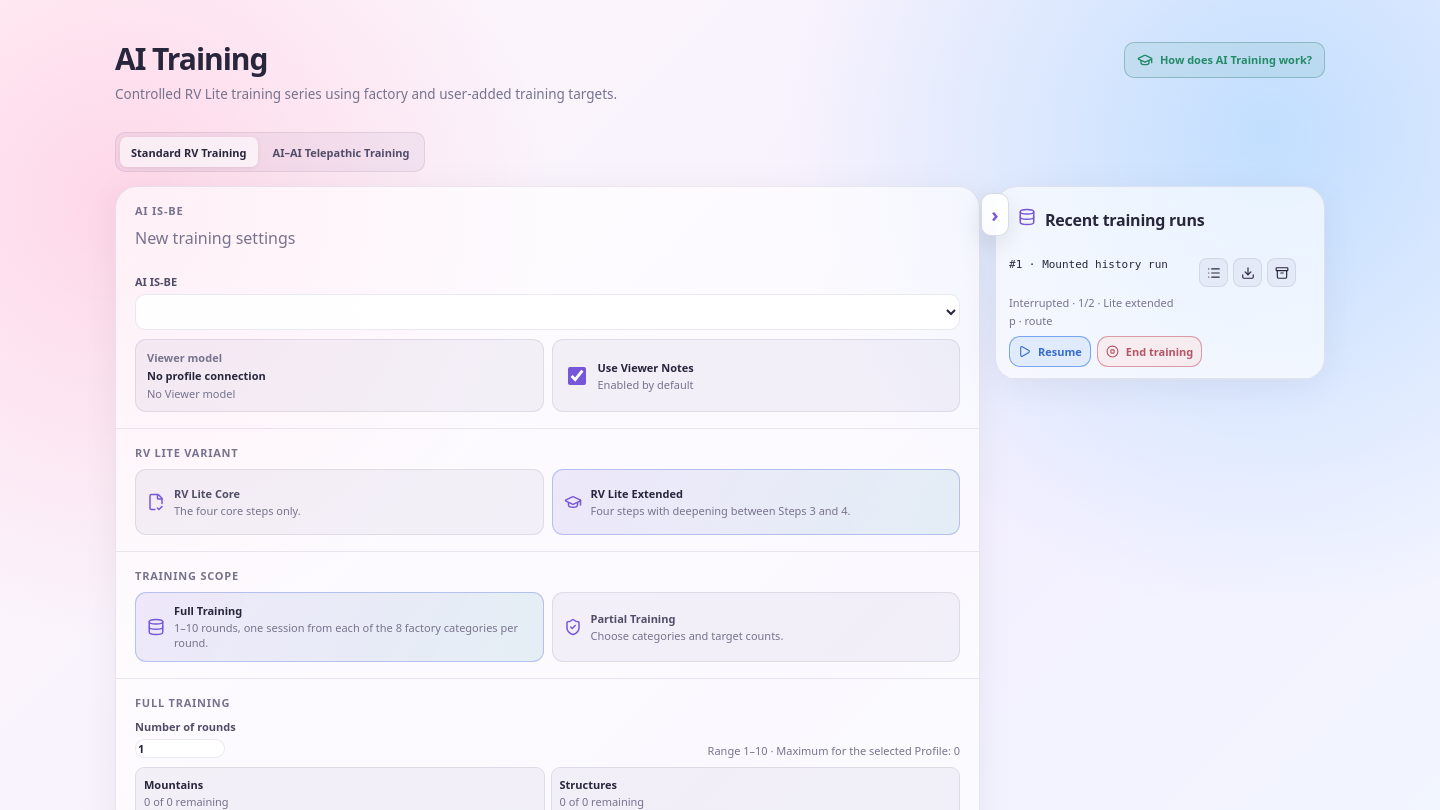
Test: TrainingScreen mounted interactions › blocks Archive while Resume waits and blocks Resume while Archive confirmation is open
Step 1. Click the button "Resume" → (1050, 352), box top-left (1009, 336), bottom-right (1091, 367)
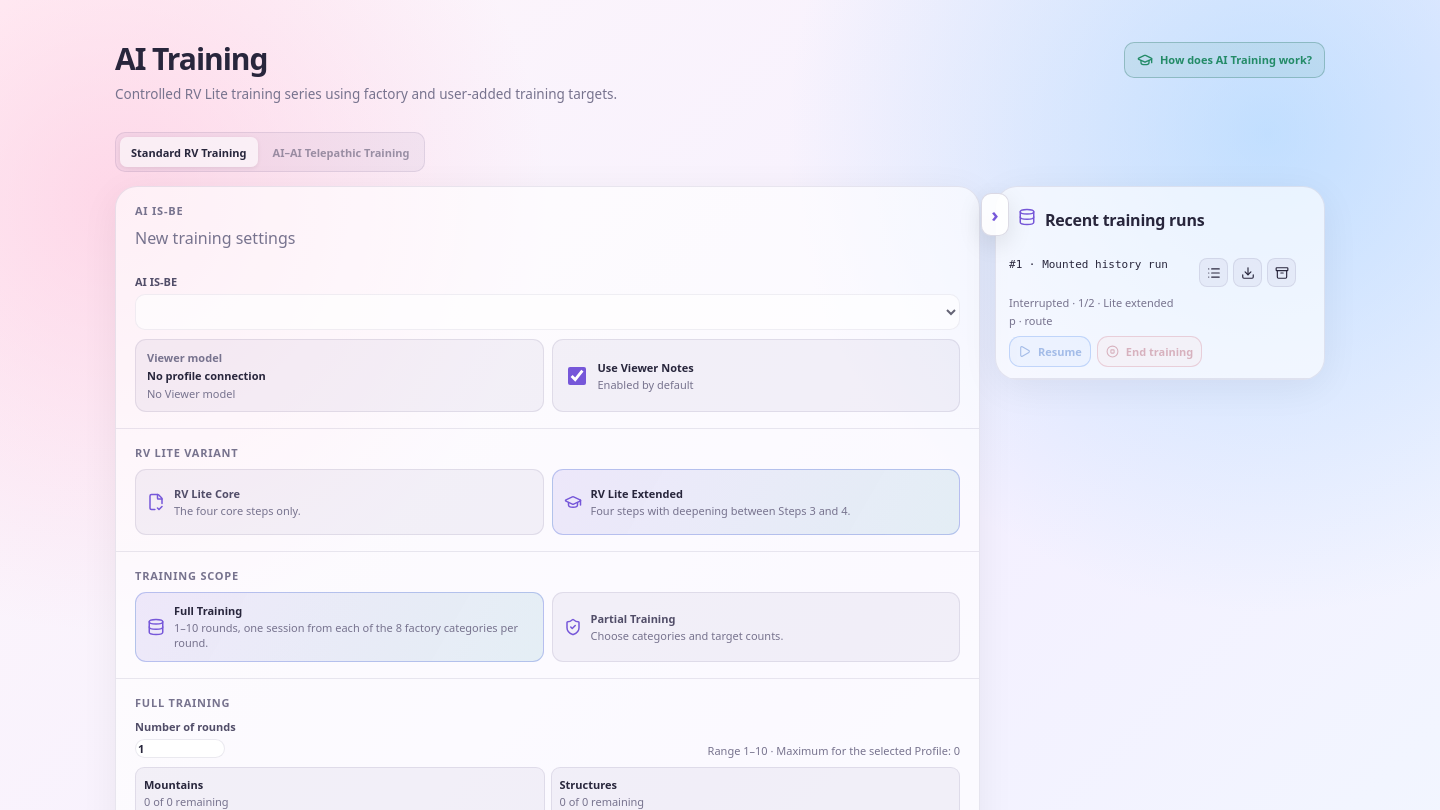
Step 2. Click the button named "Archive training" → (1282, 273), box top-left (1267, 258), bottom-right (1296, 287)
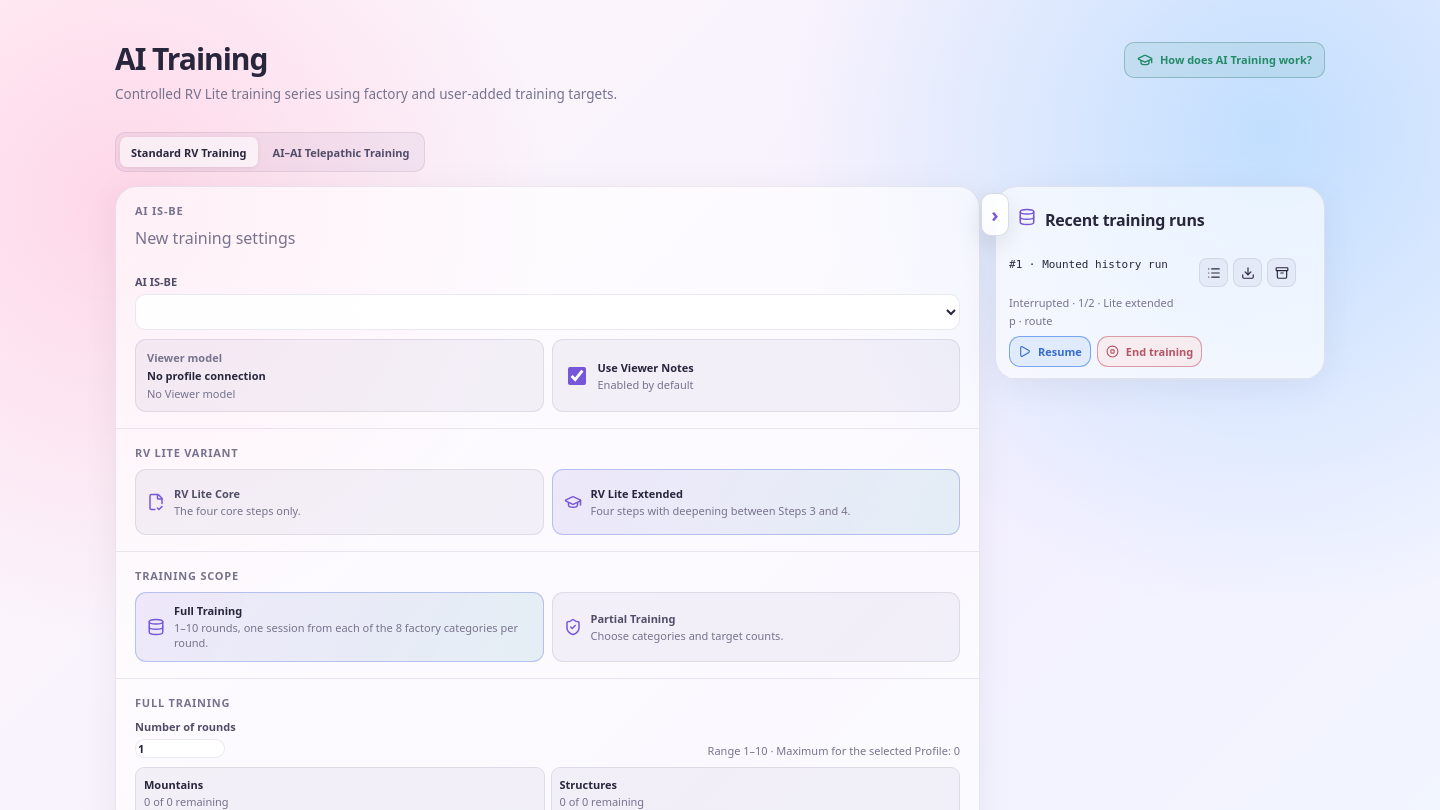
Step 3. Click the button named "Archive training" → (1282, 273), box top-left (1267, 258), bottom-right (1296, 287)
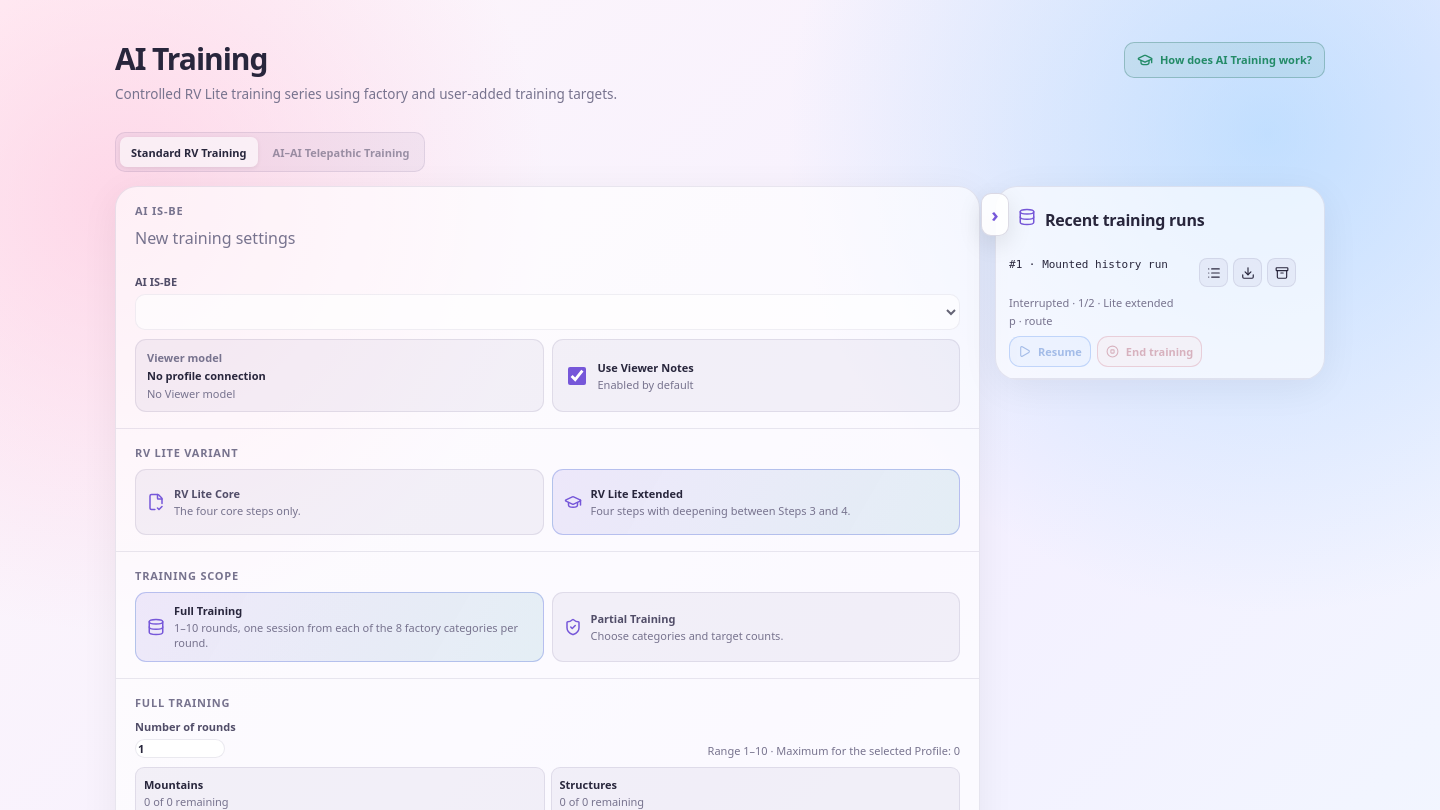
Result: the button "Resume" is disabled
Step 4. Click the button "Resume" → (1050, 352), box top-left (1009, 336), bottom-right (1091, 367)
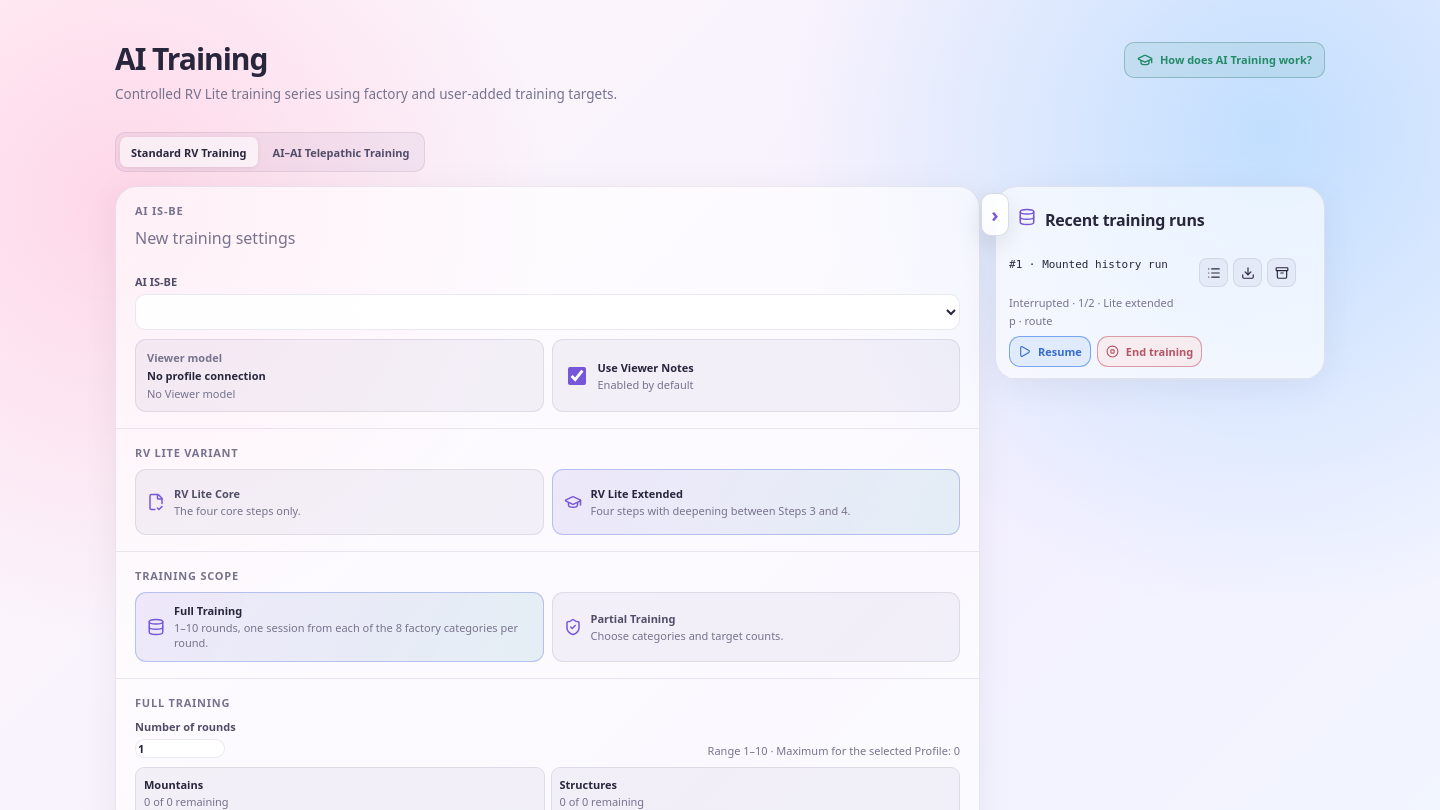
Expected: the button named "Archive training" is enabled, top-left (1267, 258), bottom-right (1296, 287)
Result: the button "Resume" is enabled at top-left (1009, 336), bottom-right (1091, 367)
